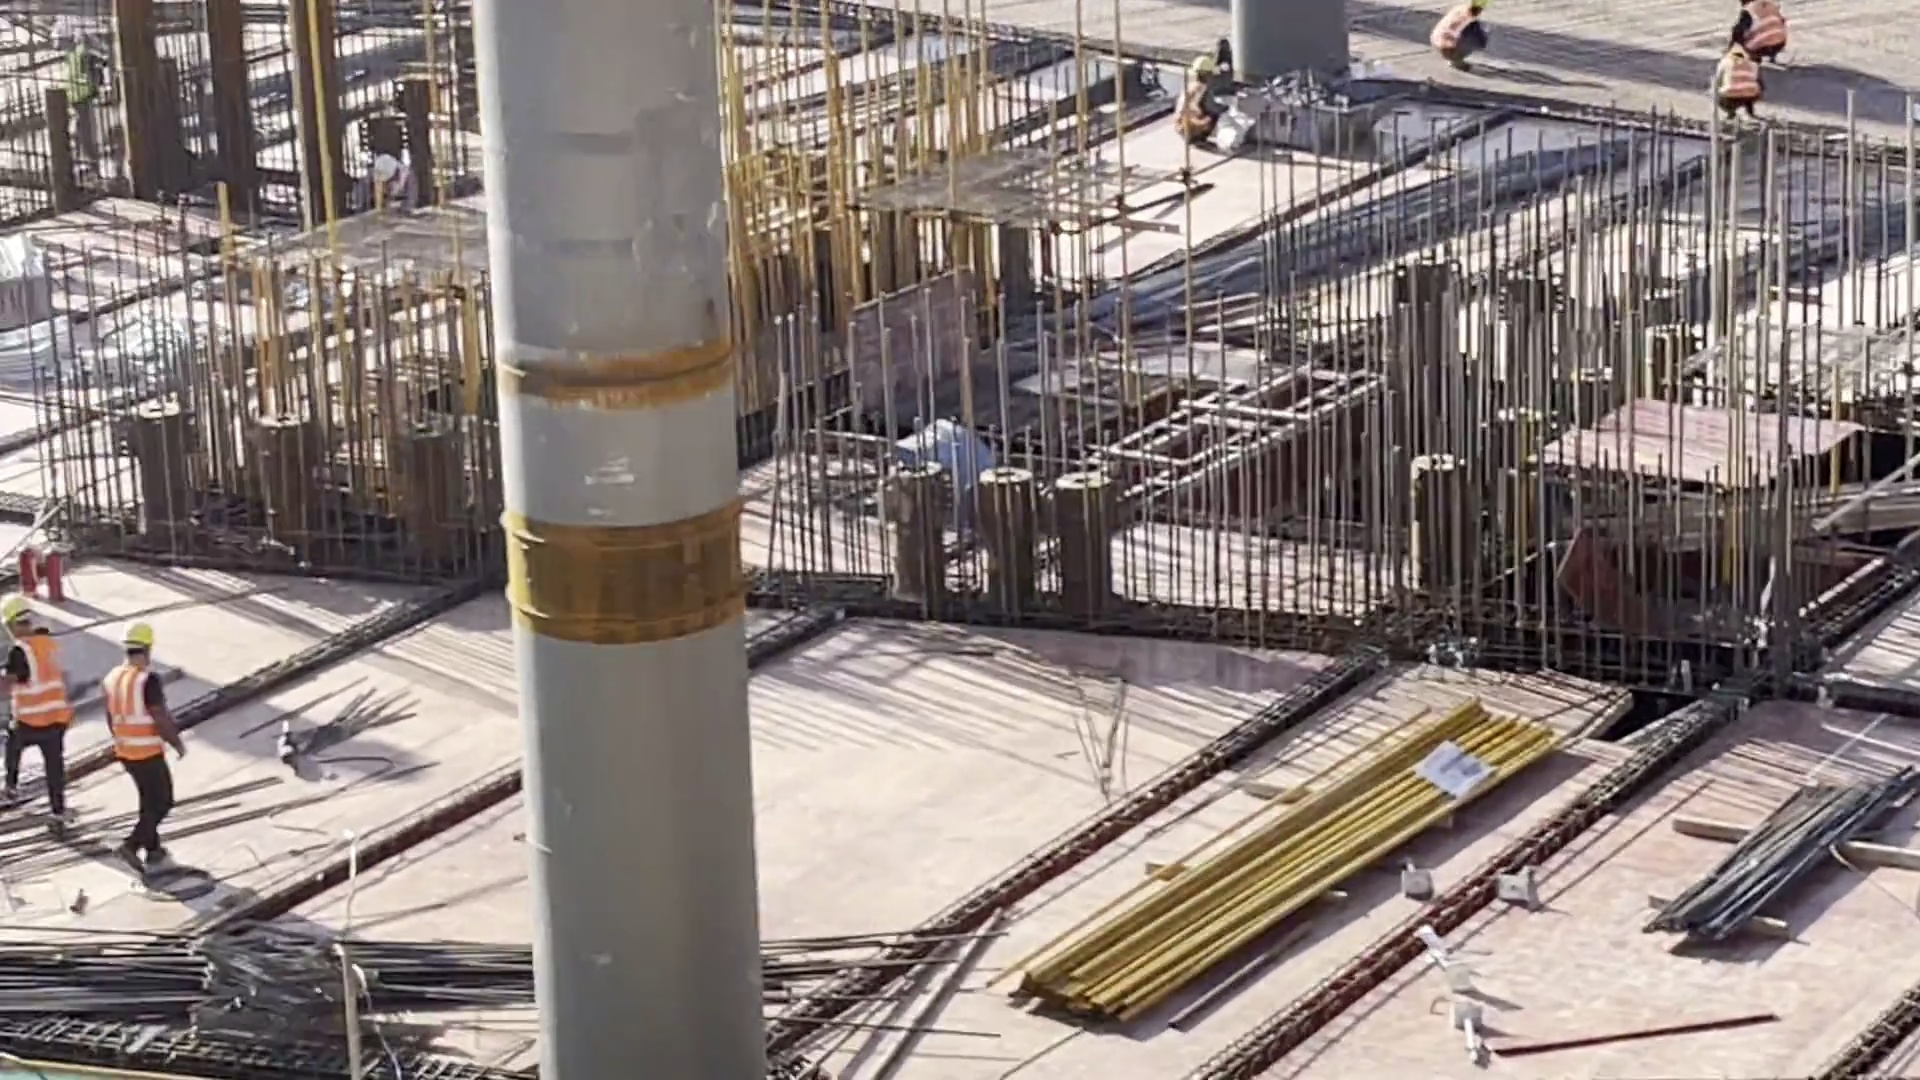helmet: (116, 618, 156, 660), (1, 594, 50, 619), (1190, 57, 1222, 78)
person: (103, 612, 193, 867), (6, 590, 81, 831), (1700, 30, 1764, 128), (343, 146, 419, 227), (1177, 53, 1230, 148), (1437, 1, 1488, 68), (1748, 1, 1793, 63)
vest: (98, 664, 181, 772), (1, 637, 82, 733), (1711, 49, 1757, 107), (1731, 5, 1786, 52), (1181, 85, 1224, 129), (1438, 4, 1476, 50)
